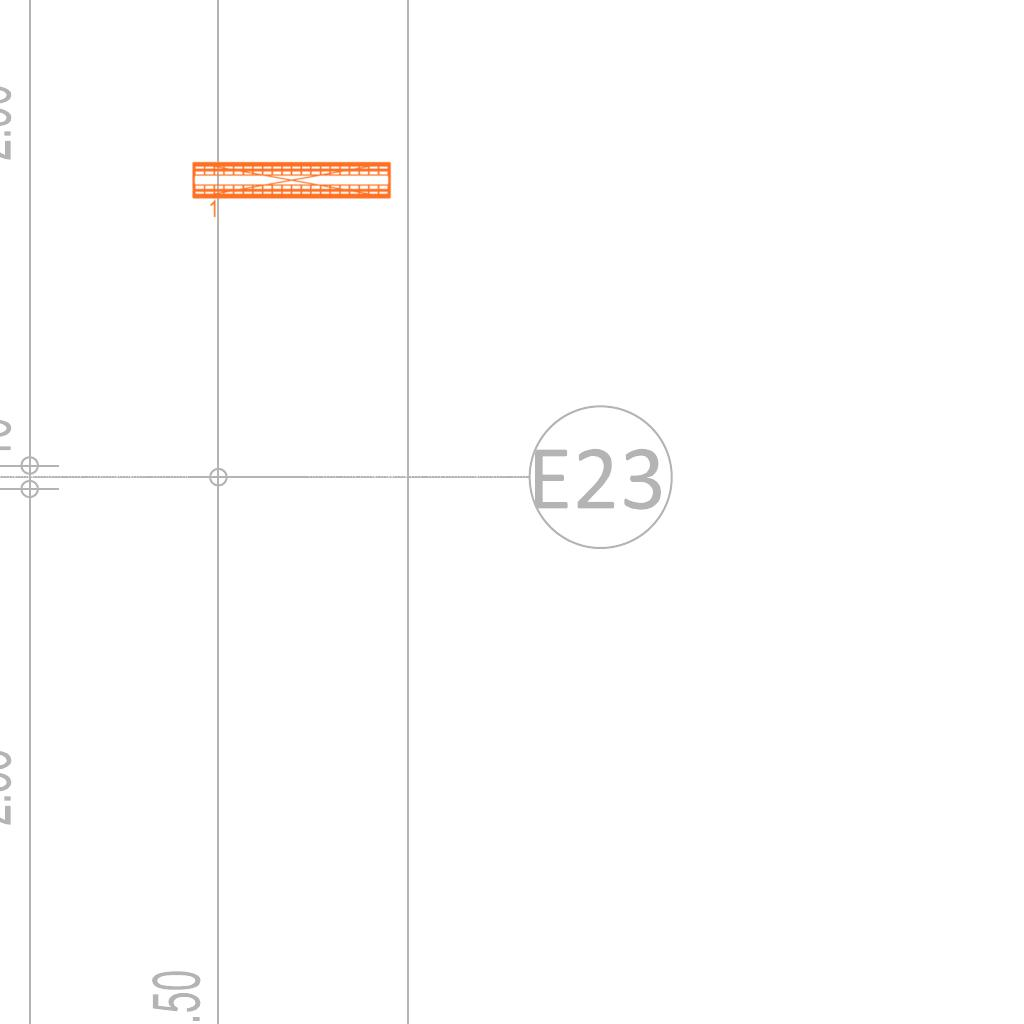Buero_Pendelleuchten_LED: (189, 157, 395, 222)
